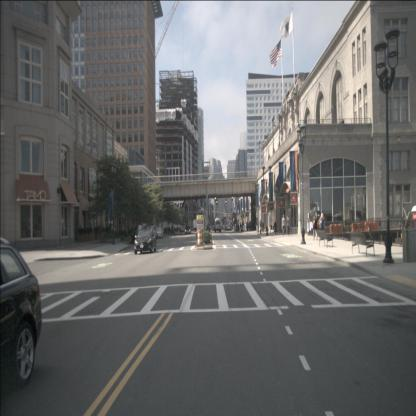human-pedestrian-adult: (318, 213, 326, 240), (312, 215, 318, 241), (318, 215, 323, 239), (282, 214, 286, 236), (98, 223, 102, 244), (286, 216, 290, 236), (274, 221, 277, 235), (260, 219, 262, 234), (262, 221, 264, 232), (249, 220, 251, 231), (247, 221, 249, 231), (270, 223, 272, 233), (172, 225, 174, 234), (240, 222, 242, 231)
movable_object-barrier: (328, 223, 344, 239), (362, 220, 378, 236), (350, 222, 364, 237)
movable_object-trafficcone: (197, 230, 203, 246)
vehicle-car: (0, 236, 43, 386), (134, 229, 157, 254), (132, 223, 147, 244), (153, 227, 164, 239), (214, 219, 222, 233), (185, 226, 191, 235), (234, 224, 240, 232)
vehicle-truck: (193, 220, 200, 232)
